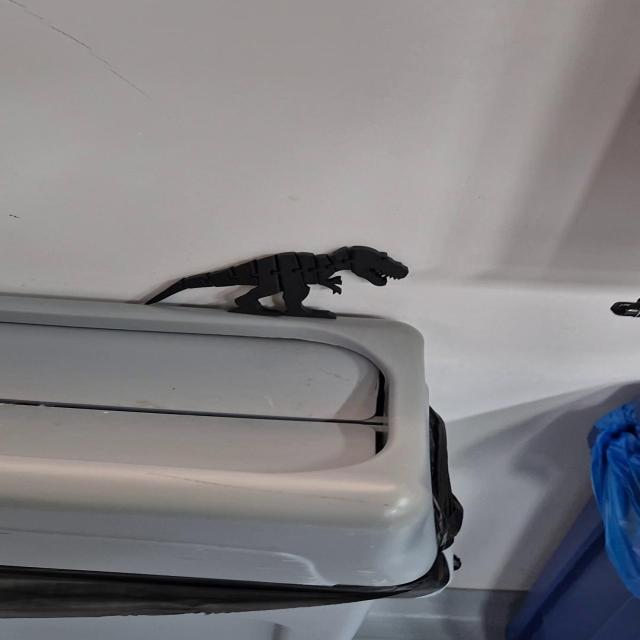dino: (143, 245, 409, 319)
